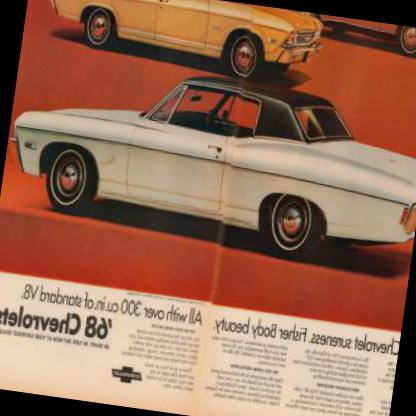car: (0, 46, 415, 278), (38, 0, 327, 89), (268, 7, 415, 64)
